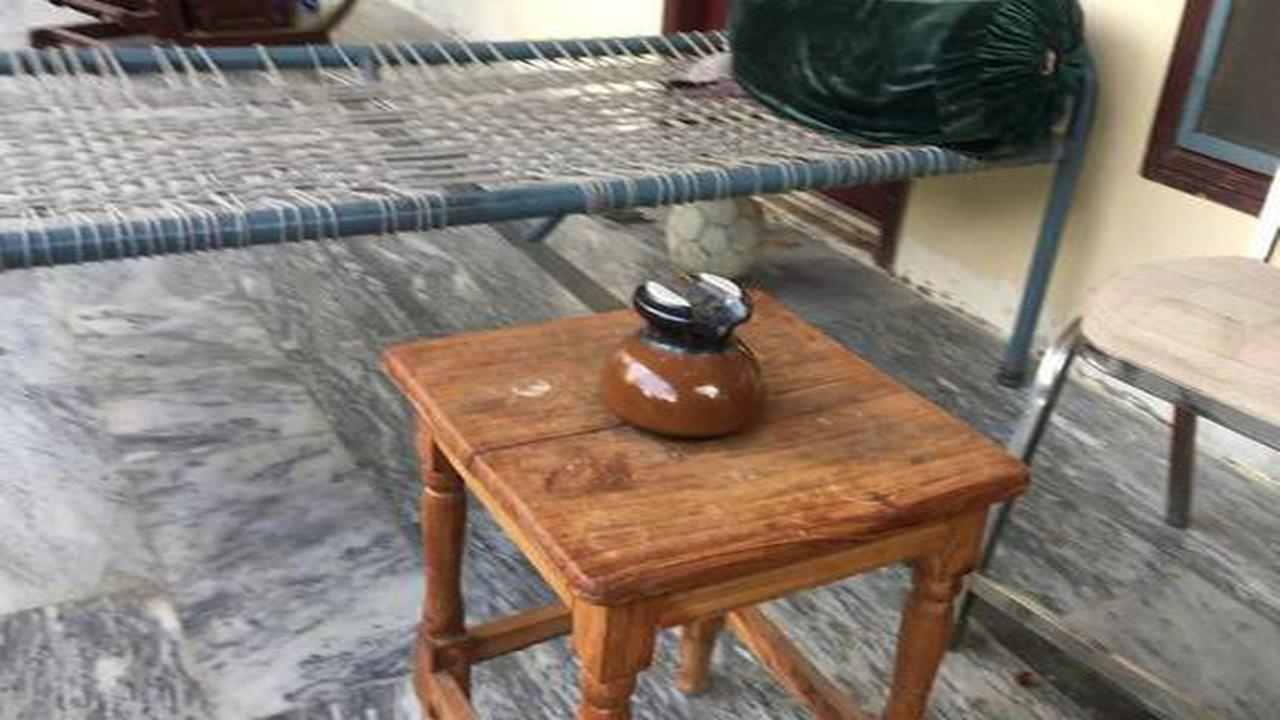insulator_pin: (582, 256, 801, 452)
